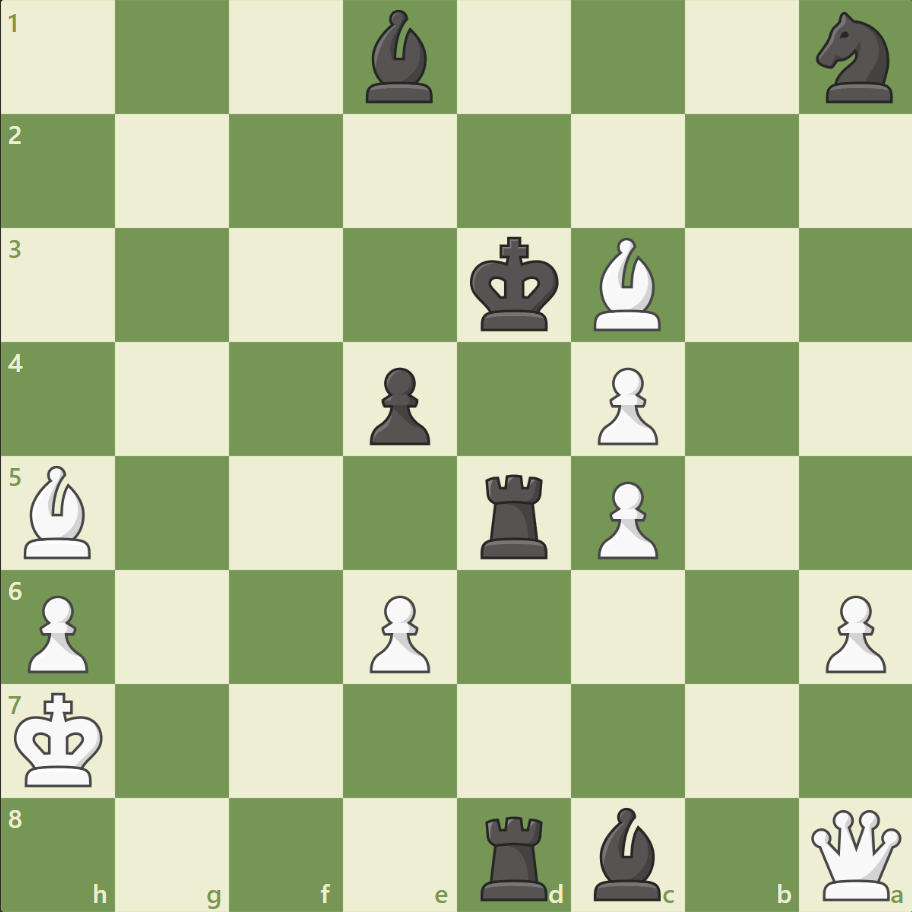B: (17, 460, 101, 563), (585, 233, 669, 336)
K: (11, 685, 111, 793)
P: (20, 586, 95, 677), (815, 586, 889, 677), (361, 586, 435, 677), (588, 473, 662, 564), (588, 359, 662, 450)
Q: (805, 804, 904, 903)
b: (585, 801, 669, 904), (358, 6, 442, 109)
k: (465, 231, 565, 339)
n: (806, 7, 903, 110)
p: (361, 359, 435, 450)
r: (473, 806, 556, 904), (473, 466, 556, 563)
